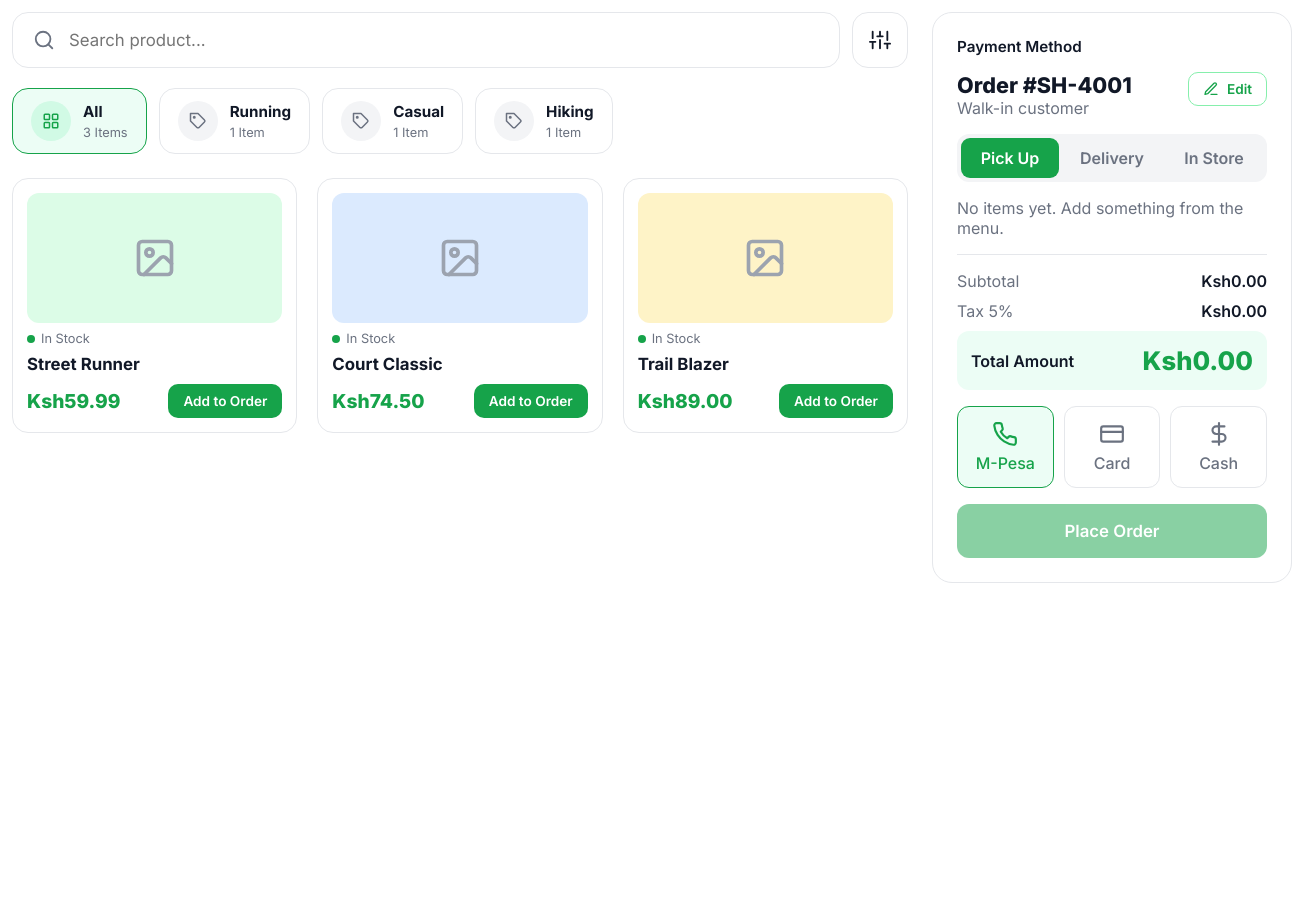
Test case: Place Order sends a POST to /orders
Expected: the link "Court Classic" is shown, top-left (332, 354), bottom-right (443, 374)
Click the button "Add to Order" next to "Ksh74.50" at [531, 401], box top-left (474, 384), bottom-right (588, 418)
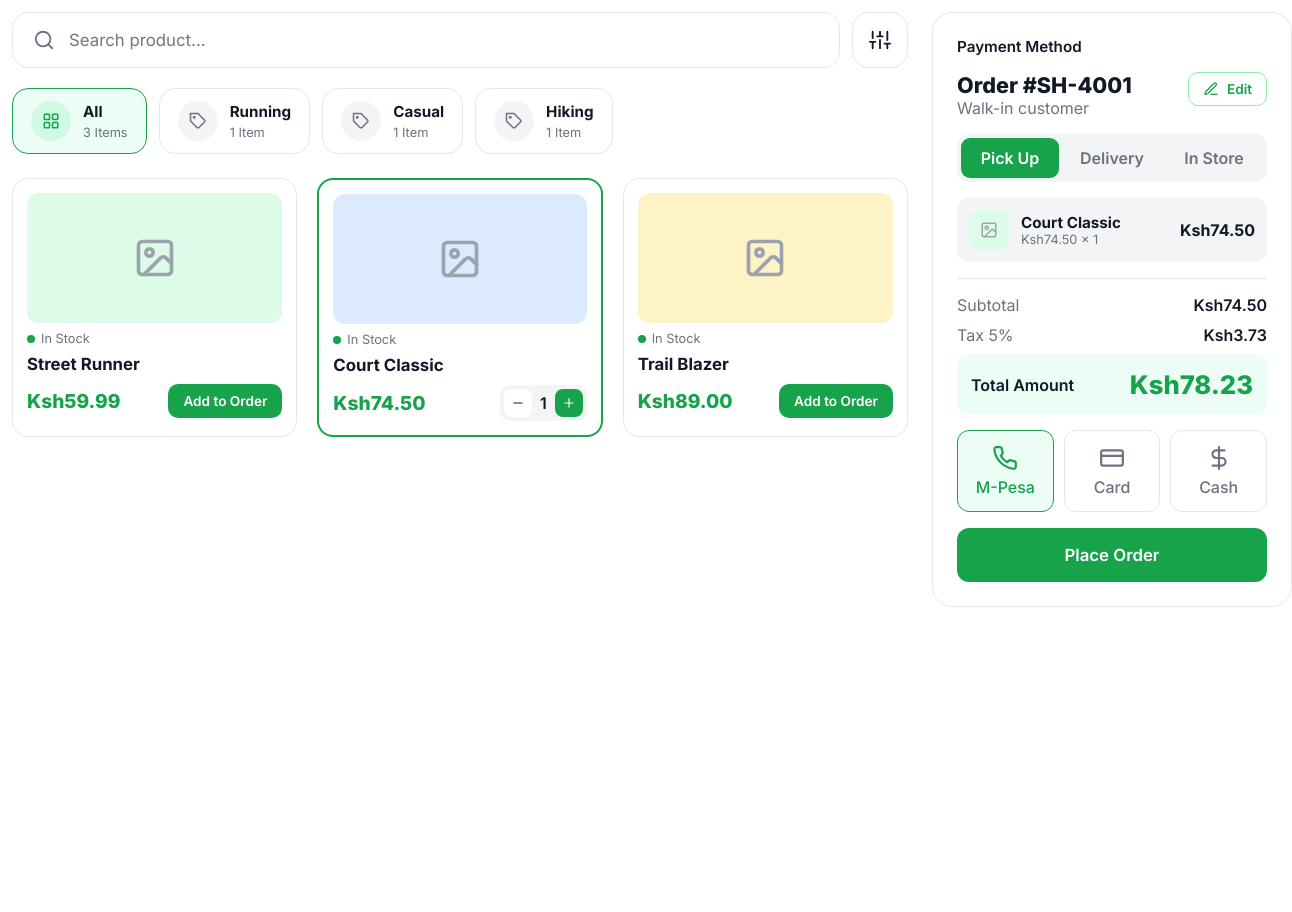
Click the button "Place Order" at [1112, 555], box top-left (957, 528), bottom-right (1267, 582)
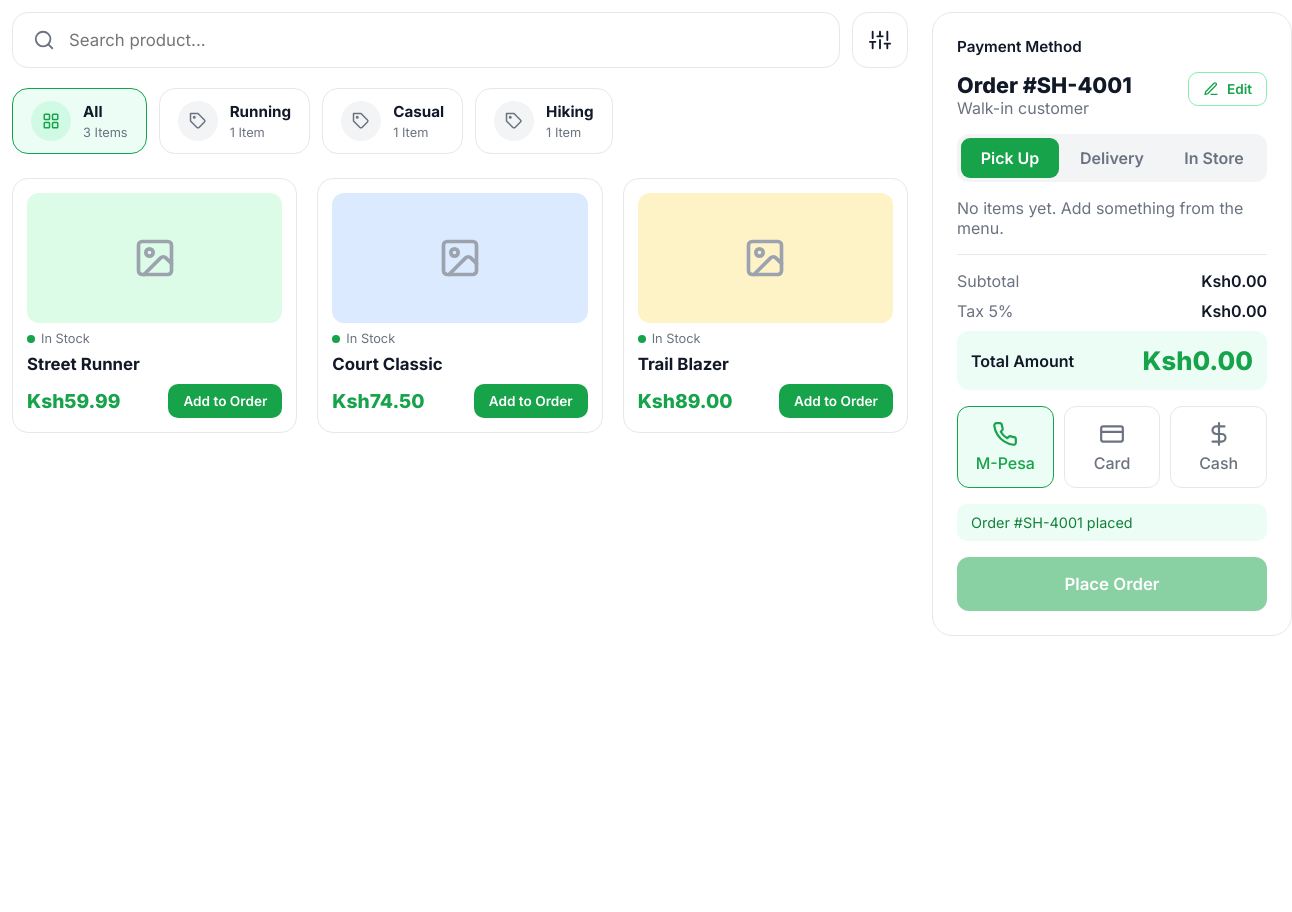
Expected: the text "Order #SH-4001 placed" is shown, top-left (957, 504), bottom-right (1267, 541)
